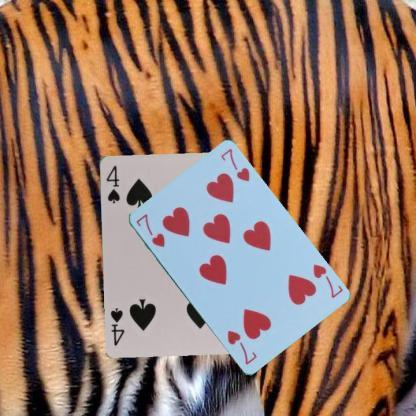4s: (103, 162, 121, 204)
7h: (310, 261, 344, 299), (133, 210, 166, 248)
